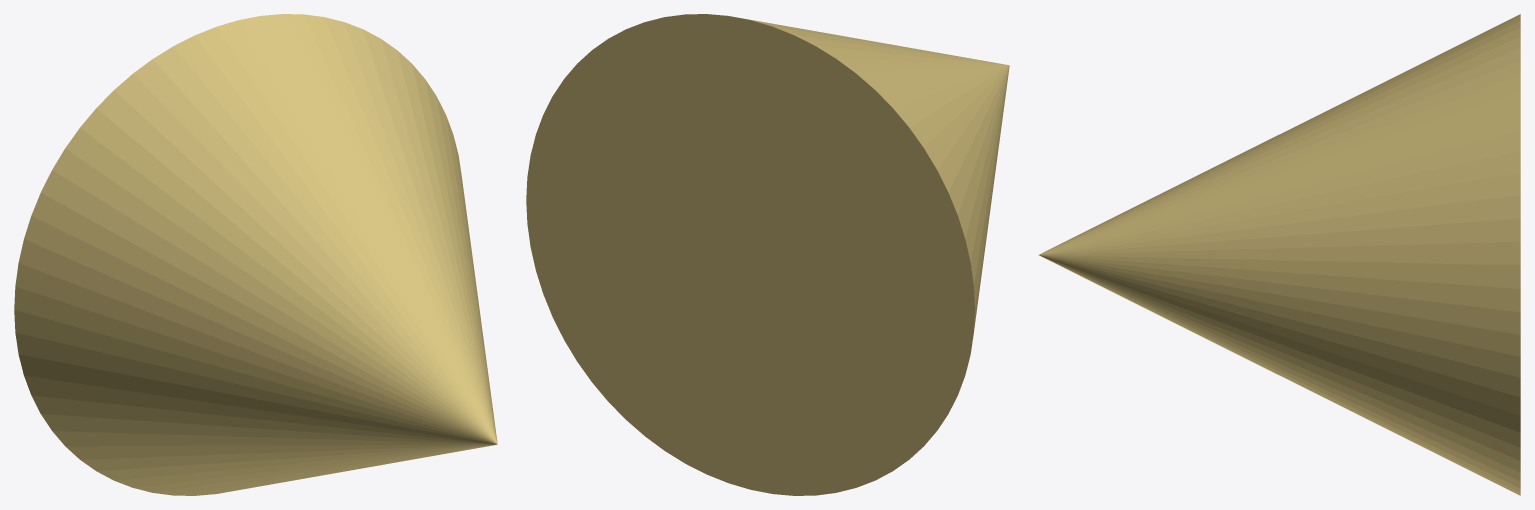
3 views of the same model, side by side, from view 1: azimuth 30°, elevation 25°; view 2: azimuth 150°, elevation 25°; view 3: azimuth 270°, elevation 25° (orthographic). The views are drawn at different scales.
Visible parts, largest first — view 1: geometry_0; view 2: geometry_0; view 3: geometry_0.
Boxes of the visible parts, <box> form: geometry_0: <box>14,14,497,495</box>; geometry_0: <box>526,14,1009,495</box>; geometry_0: <box>1039,14,1520,495</box>.
Bounding box in the file's own units: 0.6 × 0.6 × 0.6.
